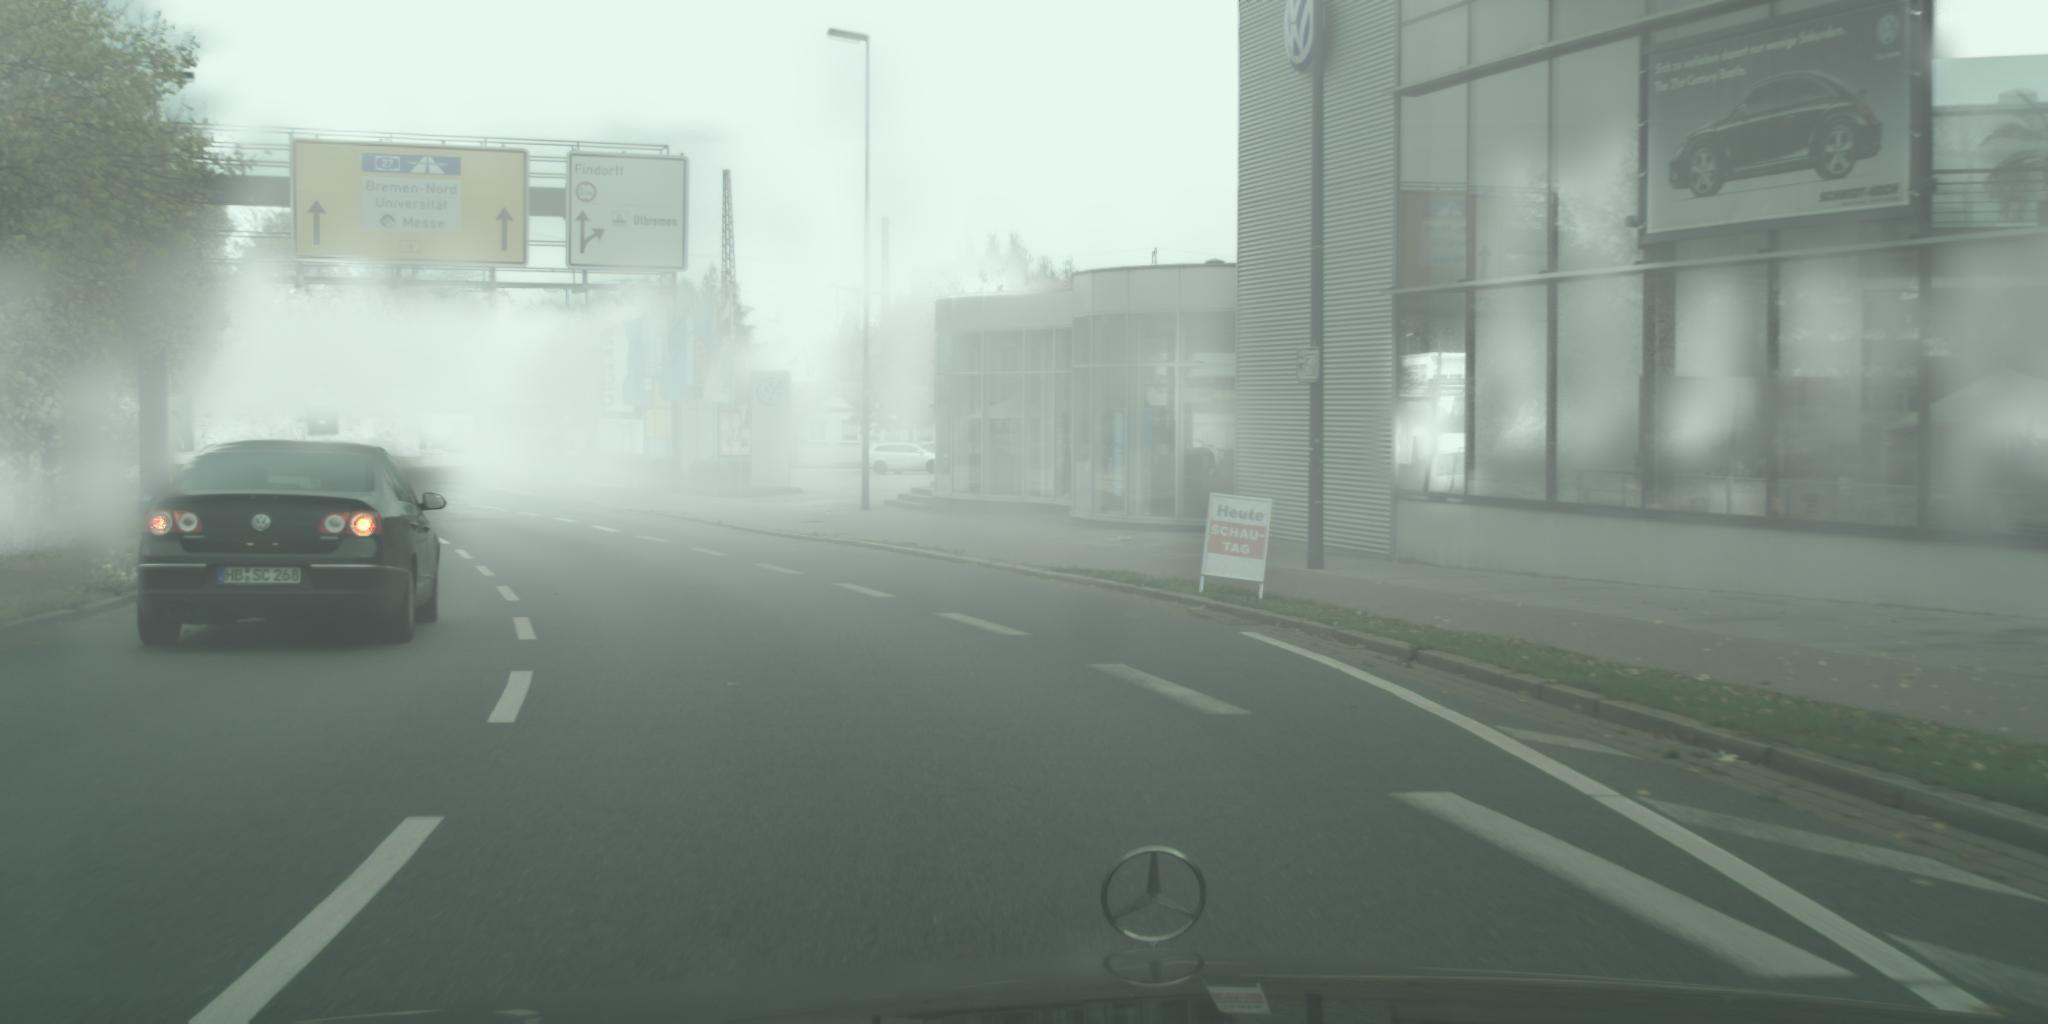car: (137, 438, 451, 650), (865, 443, 944, 475)
